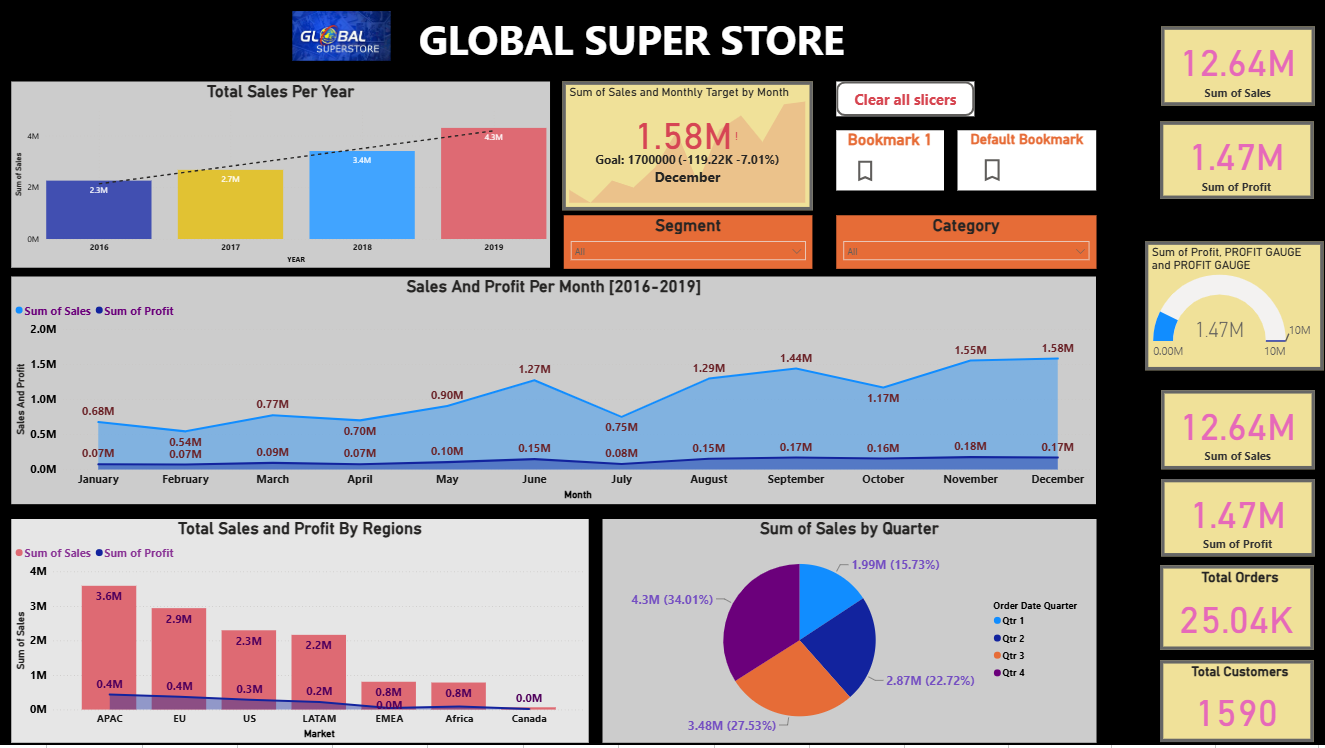

This screenshot's page, from the dashboard's own definition file:
{"tool":"powerbi","page":{"name":"Page 1","canvas":[1920,1080],"ordinal":0},"visuals":[{"type":"textbox","box":[581.7,13.3,666.7,93.3],"z":0},{"type":"image","box":[406.7,13.3,175,81.7],"z":1000},{"type":"card","fields":{"Values":["Sum(Orders.Sales)"]},"box":[1681.2,566.4,222,114],"z":2000},{"type":"card","fields":{"Values":["Sum(Orders.Profit)"]},"box":[1681.2,694.9,222,112],"z":3000},{"type":"card","title":"Total Orders","fields":{"Values":["Count(Orders.Order ID)"]},"box":[1679.4,819.8,222,122],"z":4000},{"type":"card","title":"Total Customers","fields":{"Values":["Count(Orders.Customer ID)"]},"box":[1679.4,957.3,222,118],"z":5000},{"type":"clusteredColumnChart","title":"Total Sales Per Year","fields":{"Category":["Orders.Order Date.Variation.Date Hierarchy.Year"],"Y":["Sum(Orders.Sales)"]},"box":[16.3,119.4,780,269.6],"z":6000},{"type":"lineChart","title":"Sales And Profit Per Month  [2016-2019]","fields":{"Category":["Orders.Order Date.Variation.Date Hierarchy.Month"],"Y":["Sum(Orders.Sales)","Sum(Orders.Profit)"]},"box":[16.3,401.7,1570.8,329.4],"z":7000},{"type":"lineClusteredColumnComboChart","title":"Total Sales and Profit By Regions","fields":{"Category":["Orders.Market"],"Y":["Sum(Orders.Sales)"],"Y2":["Sum(Orders.Profit)"]},"box":[16.3,752.8,836.1,323.9],"z":8000},{"type":"pieChart","fields":{"Category":["Orders.Order Date.Variation.Date Hierarchy.Quarter"],"Y":["Sum(Orders.Sales)"]},"box":[872.3,752.8,714.8,323.9],"z":9000},{"type":"slicer","title":"Segment","fields":{"Values":["Orders.Segment"]},"box":[816.2,313.1,360.1,77.8],"z":10000},{"type":"slicer","title":"Category","fields":{"Values":["Orders.Category"]},"box":[1210.7,313.1,376.4,77.8],"z":11000},{"type":"card","fields":{"Values":["Sum(Orders.Sales)"]},"box":[1681.2,39.8,222,114],"z":12000},{"type":"card","fields":{"Values":["Sum(Orders.Profit)"]},"box":[1679.4,177.3,222,112],"z":13000},{"type":"kpi","fields":{"Goal":["Orders.Monthly Target"],"Indicator":["Sum(Orders.Sales)"],"TrendLine":["Orders.Order Date.Variation.Date Hierarchy.Month"]},"box":[814.3,119.4,362,186],"z":14000},{"type":"gauge","fields":{"MaxValue":["Orders.PROFIT GAUGE"],"TargetValue":["Orders.PROFIT GAUGE"],"Y":["Sum(Orders.Profit)"]},"box":[1657.6,351.1,258,186],"z":15000},{"type":"actionButton","box":[1210.7,119.4,200,50],"z":16000},{"type":"actionButton","title":"Bookmark 1","box":[1210.7,190,155.6,86.9],"z":17000},{"type":"actionButton","title":"Default Bookmark","box":[1386.2,190,200.9,86.9],"z":18000}]}

Visuals, with their boxes in screenshot pixels (x1, y1, x2, y2), scaled from the page's 1920x1080 canvas onto the 1325x748 screenshot:
textbox: [left=401, top=9, right=862, bottom=74]
image: [left=281, top=9, right=401, bottom=66]
card - Sum(Orders.Sales): [left=1160, top=392, right=1313, bottom=471]
card - Sum(Orders.Profit): [left=1160, top=481, right=1313, bottom=559]
"Total Orders" card: [left=1159, top=568, right=1312, bottom=652]
"Total Customers" card: [left=1159, top=663, right=1312, bottom=745]
"Total Sales Per Year" clusteredColumnChart: [left=11, top=83, right=550, bottom=269]
"Sales And Profit Per Month  [2016-2019]" lineChart: [left=11, top=278, right=1095, bottom=506]
"Total Sales and Profit By Regions" lineClusteredColumnComboChart: [left=11, top=521, right=588, bottom=746]
pieChart - Orders.Order Date.Variation.Date Hierarchy.Quarter x Sum(Orders.Sales): [left=602, top=521, right=1095, bottom=746]
"Segment" slicer: [left=563, top=217, right=812, bottom=271]
"Category" slicer: [left=836, top=217, right=1095, bottom=271]
card - Sum(Orders.Sales): [left=1160, top=28, right=1313, bottom=107]
card - Sum(Orders.Profit): [left=1159, top=123, right=1312, bottom=200]
kpi - Orders.Monthly Target x Sum(Orders.Sales): [left=562, top=83, right=812, bottom=212]
gauge - Orders.PROFIT GAUGE x Orders.PROFIT GAUGE: [left=1144, top=243, right=1322, bottom=372]
actionButton: [left=836, top=83, right=974, bottom=117]
"Bookmark 1" actionButton: [left=836, top=132, right=943, bottom=192]
"Default Bookmark" actionButton: [left=957, top=132, right=1095, bottom=192]
